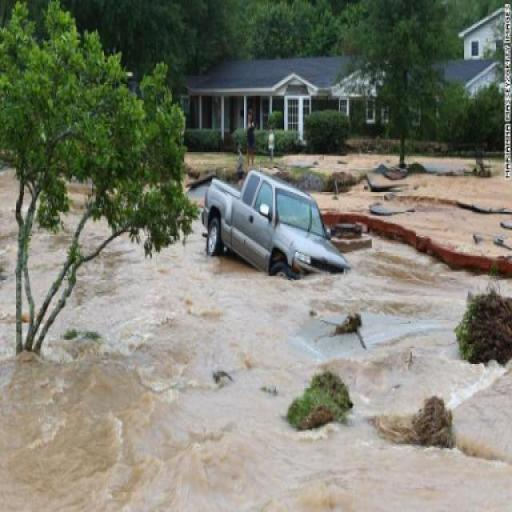flood: (0, 170, 512, 512), (27, 184, 84, 320), (378, 202, 512, 257), (404, 160, 512, 208), (314, 182, 385, 216), (281, 154, 400, 173), (407, 156, 476, 168), (185, 152, 237, 166), (41, 291, 60, 328), (19, 293, 30, 344), (486, 159, 503, 168), (32, 333, 39, 348), (393, 201, 399, 204)
house: (192, 54, 364, 139), (457, 4, 512, 96)
